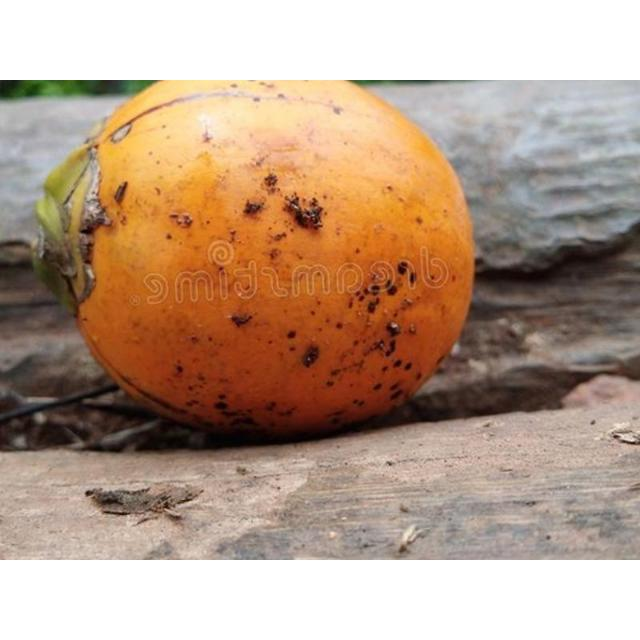good: (32, 80, 476, 444)
